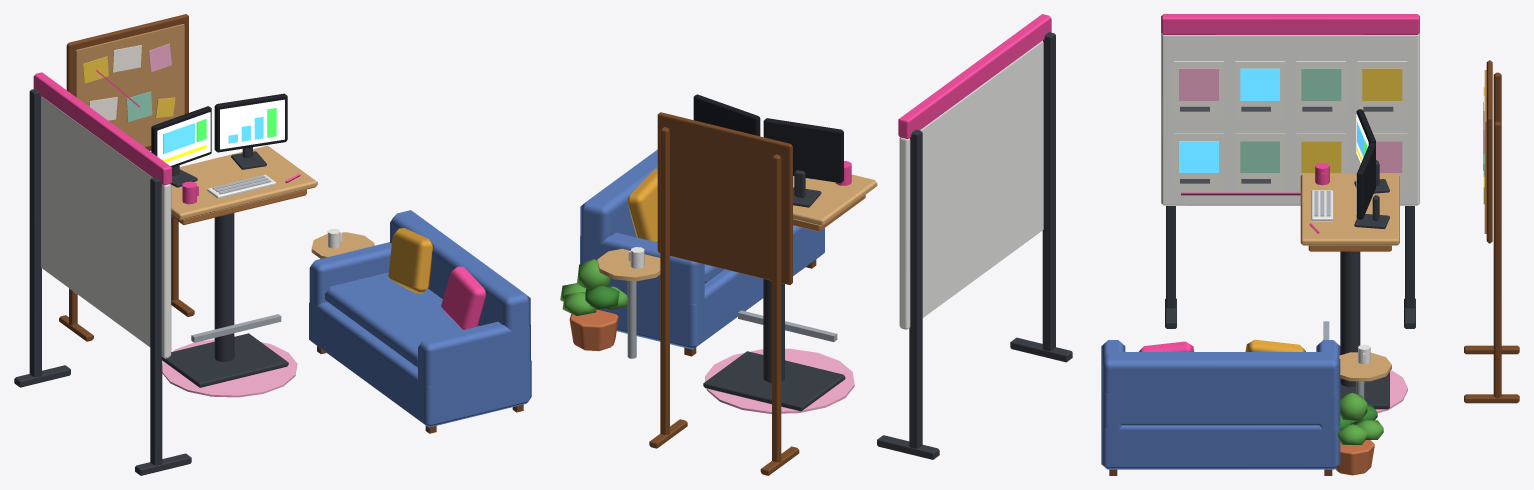
Rendered from station_intake_2.glb.
3 views of the same model, side by side, from view 1: azimuth 30°, elevation 25°; view 2: azimuth 150°, elevation 25°; view 3: azimuth 270°, elevation 25° (orthographic). The views are drawn at different scales.
Visible parts, largest first — view 1: station_intake_2; view 2: station_intake_2; view 3: station_intake_2.
Part boxes in pixels (x1,y1,x2,y2): station_intake_2: (14, 14, 531, 475); station_intake_2: (560, 14, 1072, 475); station_intake_2: (1101, 14, 1519, 475).
Bounding box in the file's own units: 2.12 × 1.67 × 2.1.
